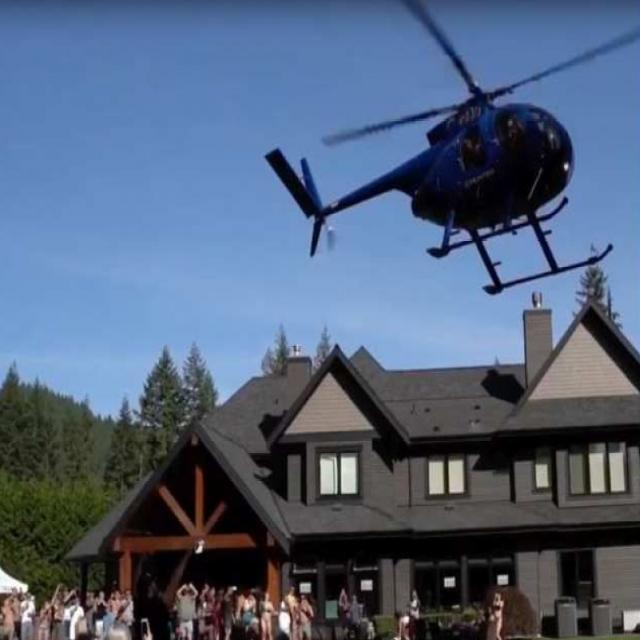helicopter: (257, 1, 636, 303)
